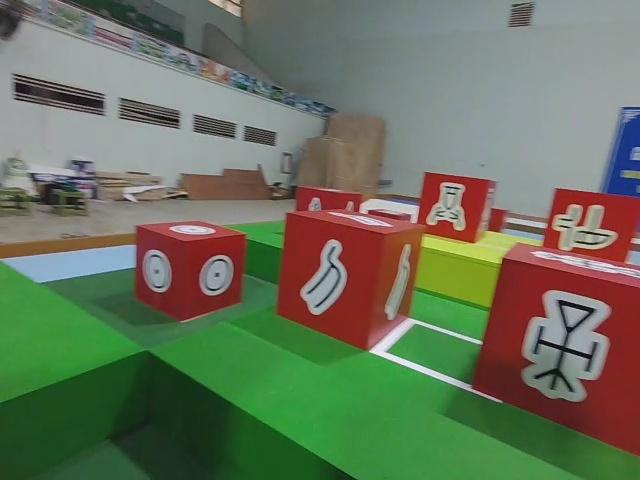R2 Real: (476, 235, 640, 456), (276, 207, 428, 352), (129, 217, 247, 318), (538, 184, 640, 277), (414, 170, 500, 245)
